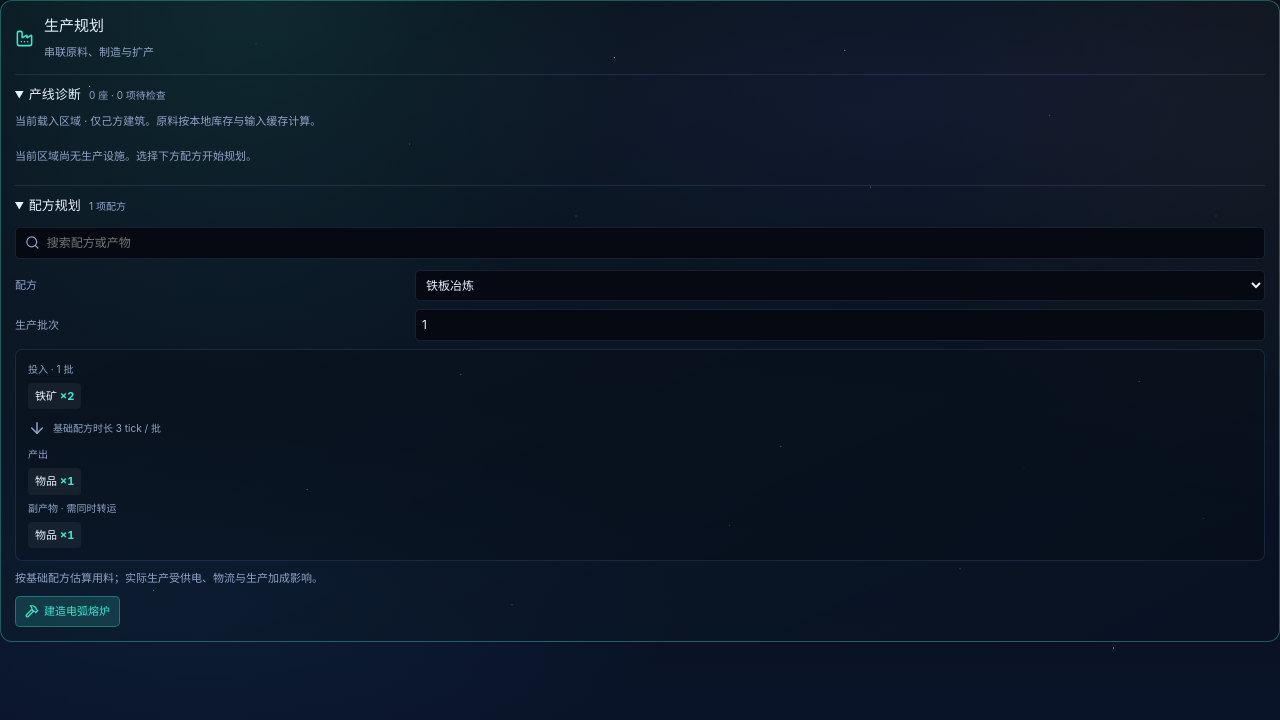
it: ProductionPlanner › shows a search empty state without retaining a stale construction action
Type "不存在的配方" into the field named "搜索生产配方" at (651, 243), box 47,234 -> 1255,252
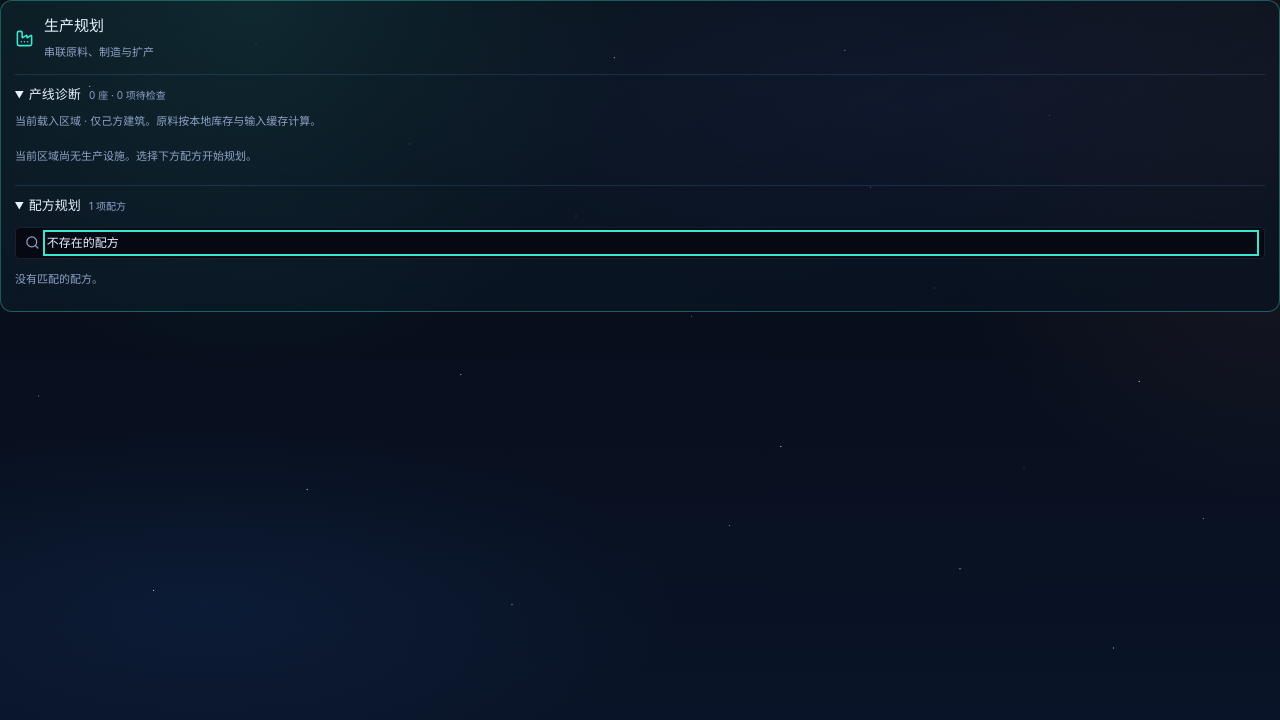
Check: the text "没有匹配的配方。" is shown, box 15,272 -> 103,286
Check: the button "建造电弧熔炉" is gone
